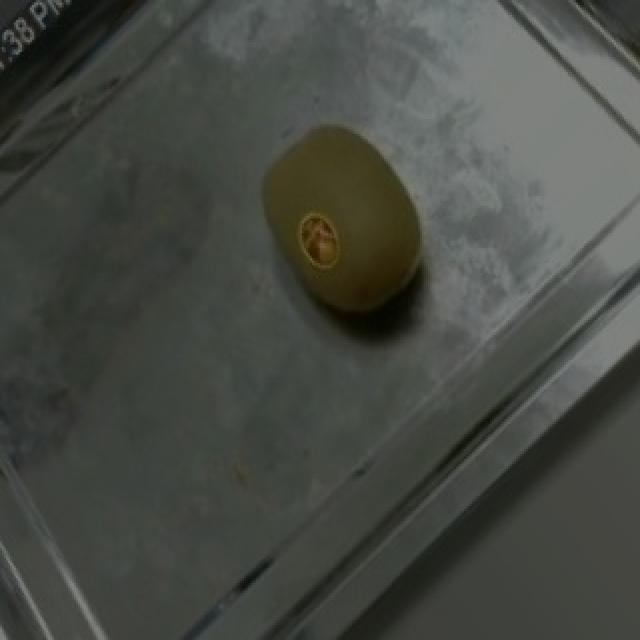Fruit: (218, 94, 460, 357)
